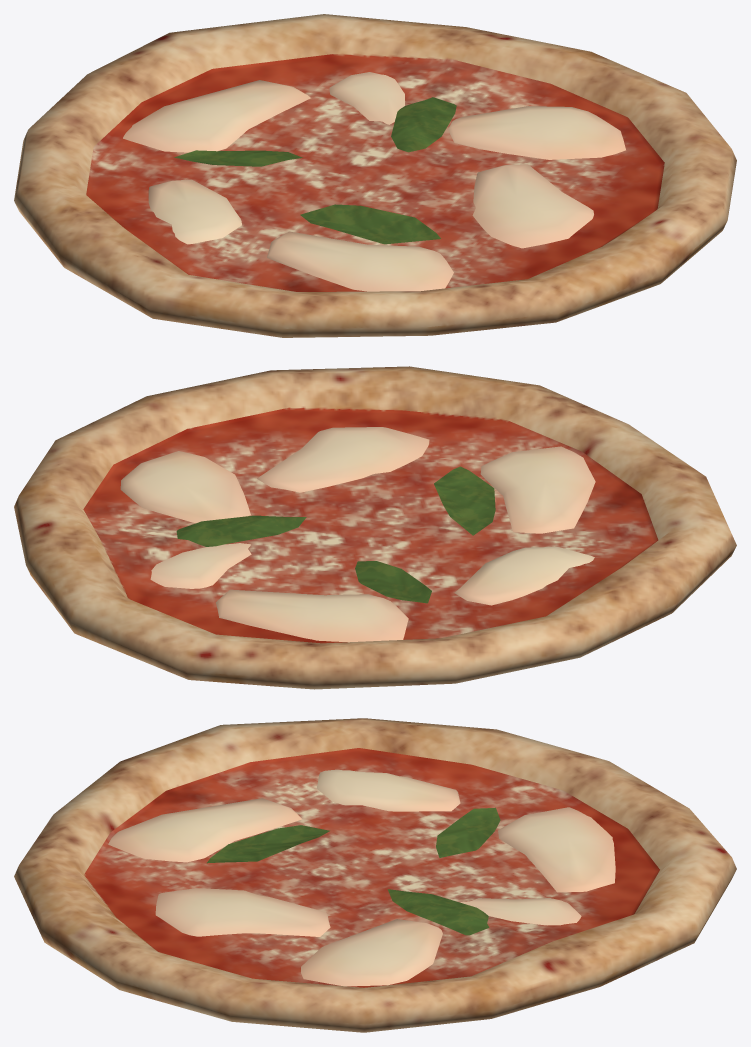
Rendered from Pizza.fbx.
The picture shows the model from 3 angles, top to bottom: view 1: azimuth 30°, elevation 25°; view 2: azimuth 150°, elevation 25°; view 3: azimuth 270°, elevation 25°; orthographic projection. The views are drawn at different scales.
Parts seen in each view (by area): view 1: Pizza; view 2: Pizza; view 3: Pizza.
Part boxes in pixels (bbox=[...]): Pizza: bbox=[14, 14, 736, 337]; Pizza: bbox=[14, 366, 736, 689]; Pizza: bbox=[14, 718, 736, 1032].
Bounding box in the file's own units: 0.5898 × 0.0299 × 0.6072.
